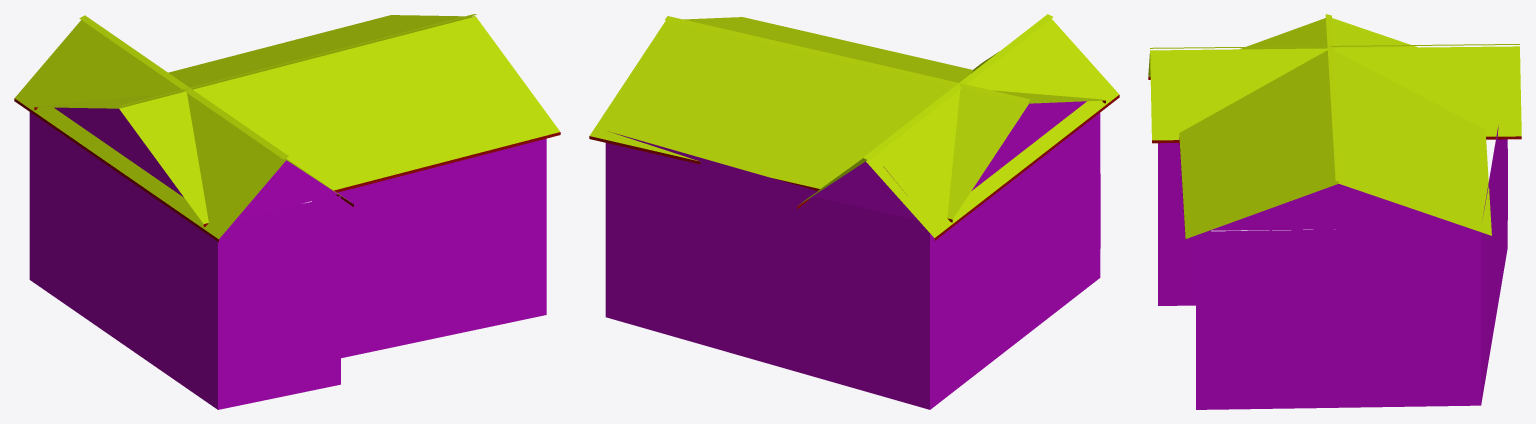
File: bgj_235.glb
The picture shows the model from 3 angles, left to right: view 1: azimuth 30°, elevation 25°; view 2: azimuth 150°, elevation 25°; view 3: azimuth 270°, elevation 25°; orthographic projection. The views are drawn at different scales.
Parts seen in each view (by area): view 1: bgj_235; view 2: bgj_235; view 3: bgj_235.
Part boxes in pixels (bbox=[...]): bgj_235: bbox=[14, 14, 560, 409]; bgj_235: bbox=[589, 14, 1119, 409]; bgj_235: bbox=[1148, 14, 1521, 409].
Size of the model in its own units: 15.32 by 9.69 by 14.18.
